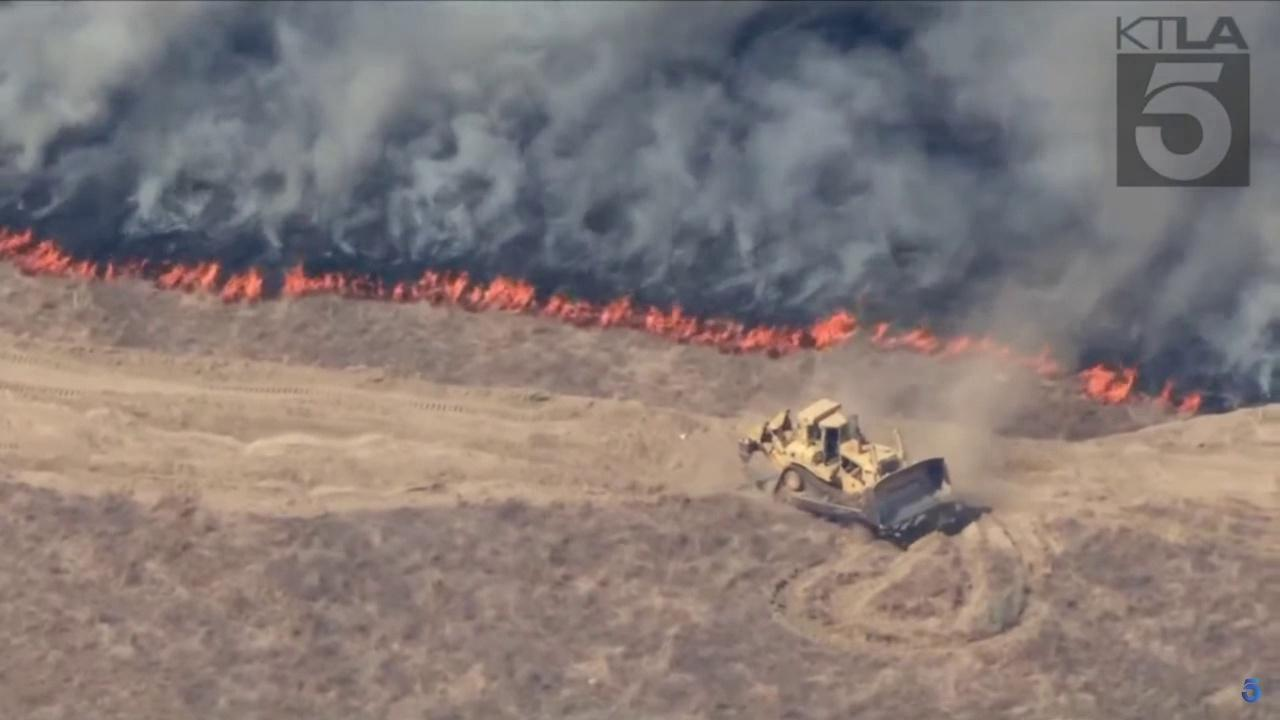fire: (279, 259, 1140, 407), (3, 221, 266, 304), (1155, 377, 1176, 411), (1174, 394, 1201, 414)
smoke: (0, 0, 1280, 401)
